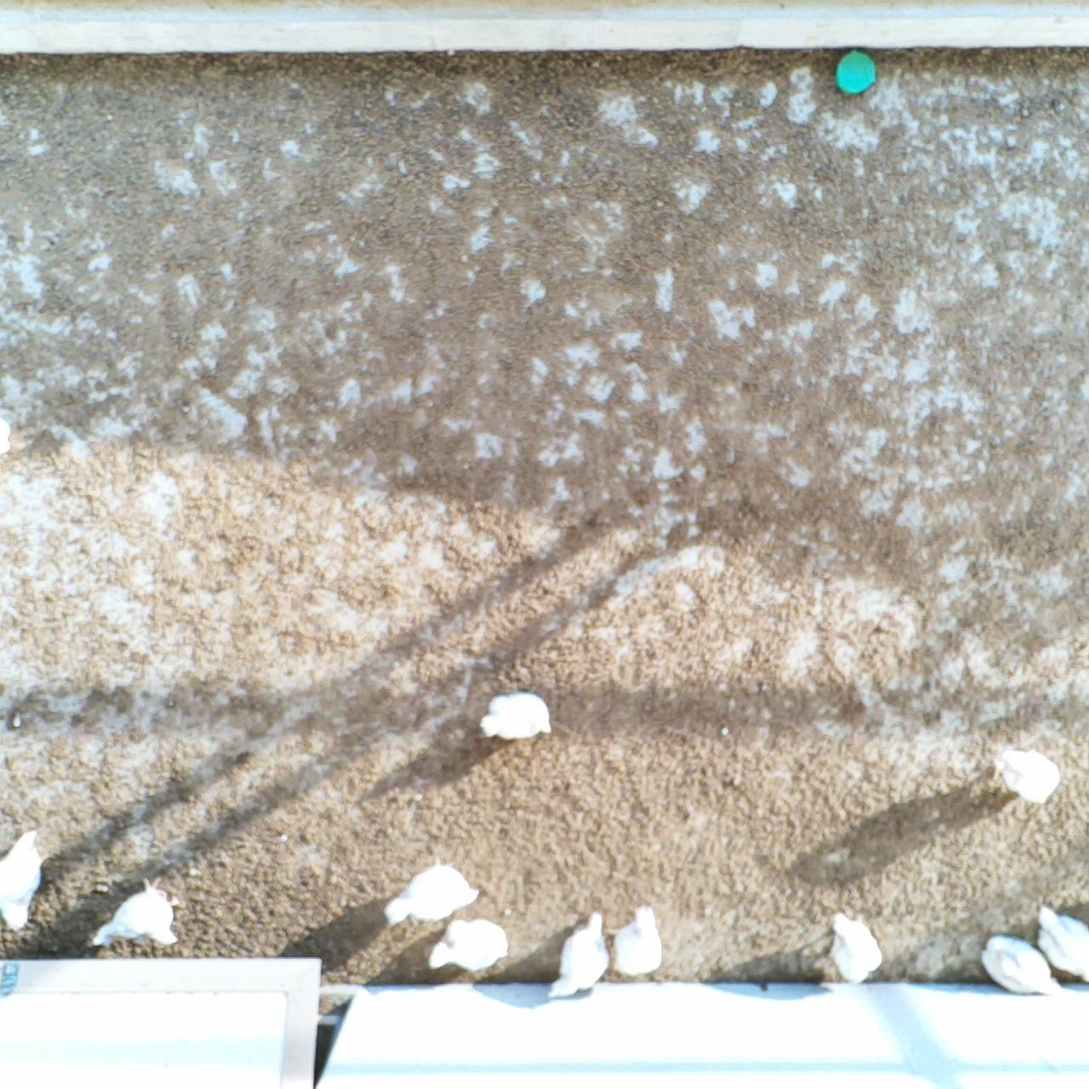chicken: (381, 839, 482, 936), (90, 874, 185, 952), (544, 908, 616, 1004), (973, 930, 1068, 998), (0, 827, 53, 934), (425, 916, 515, 977), (823, 905, 886, 987), (1032, 899, 1089, 987), (601, 903, 665, 980), (996, 741, 1064, 808), (478, 687, 556, 742)
